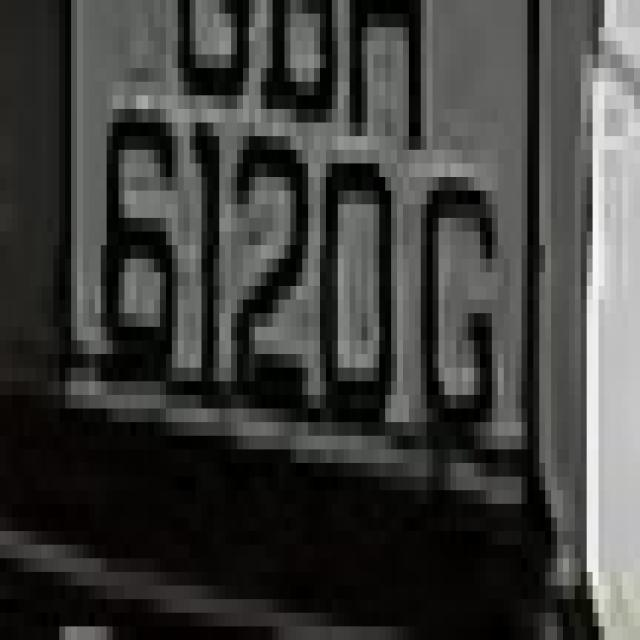0: (314, 136, 397, 463)
1: (190, 68, 231, 436)
2: (219, 109, 326, 436)
6: (83, 82, 184, 422)
G: (414, 136, 510, 504)
